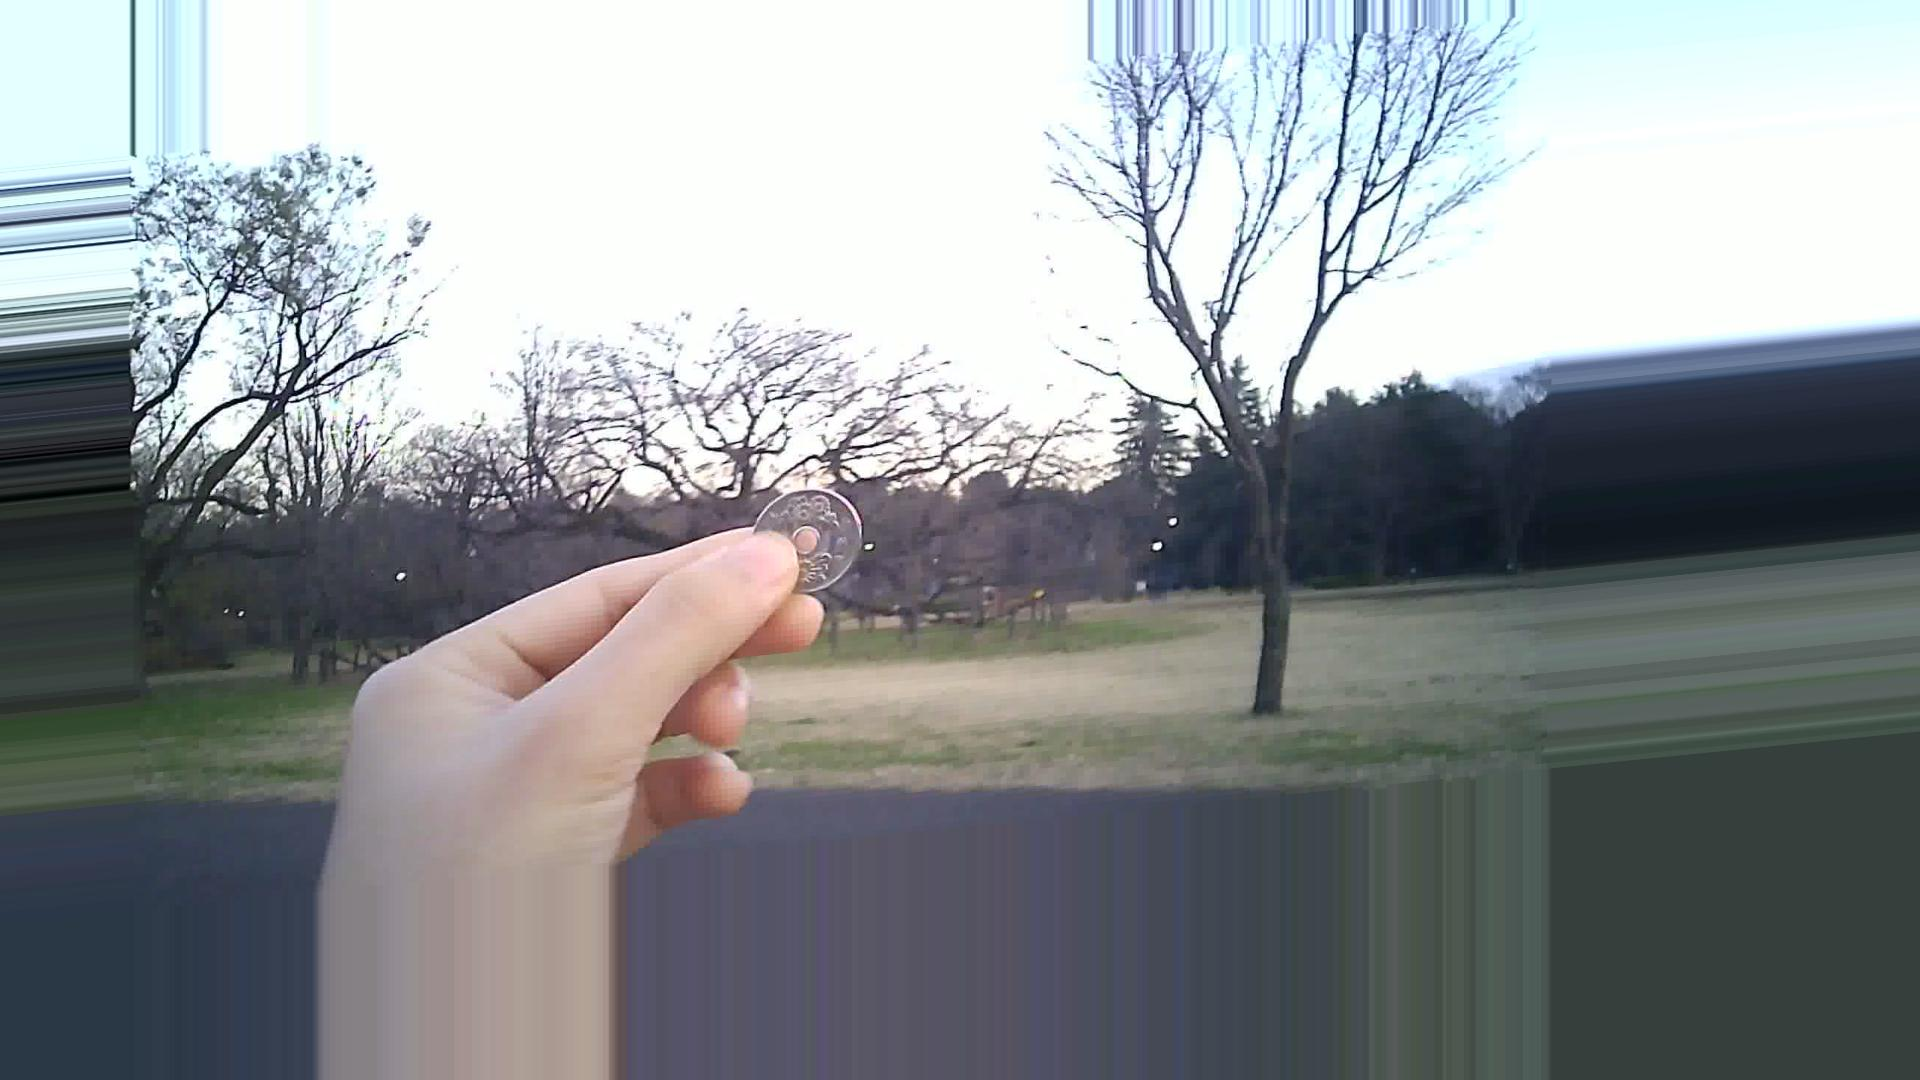50 Yen: (744, 489, 870, 597)
